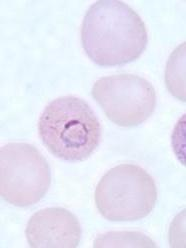Infected: (40, 95, 101, 162)
Uninfected: (81, 0, 149, 67), (95, 163, 158, 221), (94, 75, 156, 127), (0, 142, 51, 204), (26, 208, 80, 248)
